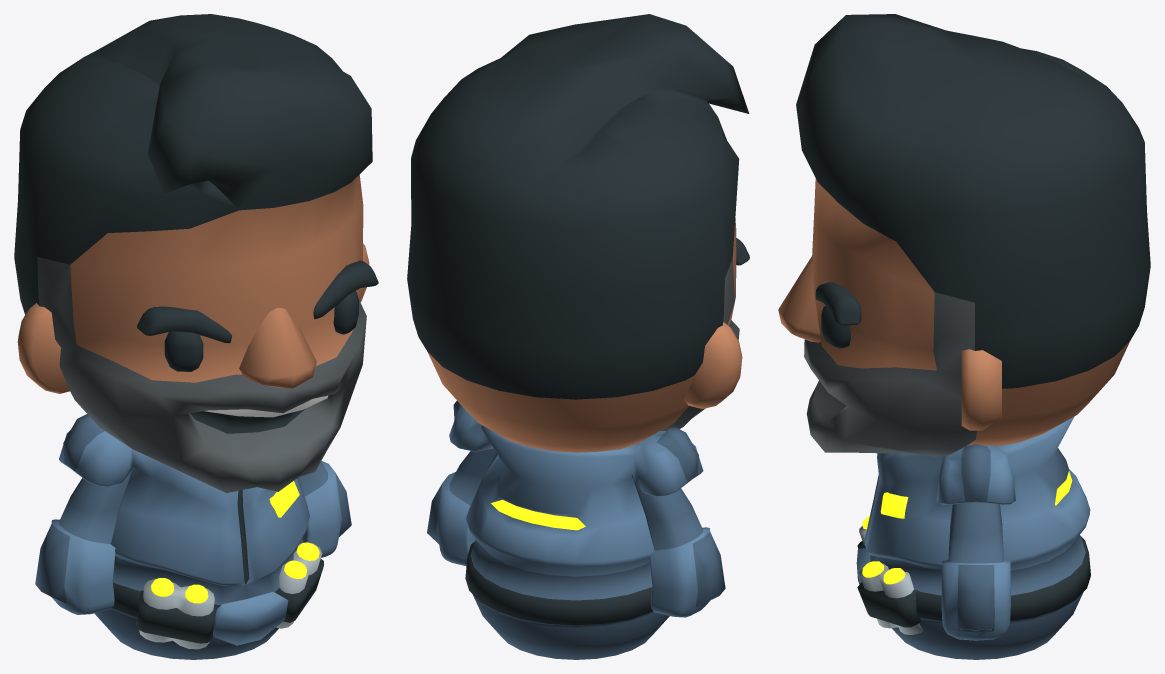
Rendered from character_spaceSoldier.gltf.
3 renders of one model, left to right at view 1: azimuth 30°, elevation 25°; view 2: azimuth 150°, elevation 25°; view 3: azimuth 270°, elevation 25°, orthographic. The views are drawn at different scales.
Parts seen in each view (by area): view 1: character_spaceSoldierHeadA, character_spaceSoldierBody, character_spaceSoldierArmRight, character_spaceSoldierArmLeft; view 2: character_spaceSoldierHeadA, character_spaceSoldierBody, character_spaceSoldierArmRight, character_spaceSoldierArmLeft; view 3: character_spaceSoldierHeadA, character_spaceSoldierBody, character_spaceSoldierArmLeft.
Part boxes in pixels (<box>): character_spaceSoldierHeadA: <box>14,14,378,492</box>; character_spaceSoldierBody: <box>59,414,323,659</box>; character_spaceSoldierArmRight: <box>35,467,133,614</box>; character_spaceSoldierArmLeft: <box>297,461,351,557</box>; character_spaceSoldierHeadA: <box>407,14,749,452</box>; character_spaceSoldierBody: <box>449,401,703,659</box>; character_spaceSoldierArmRight: <box>632,474,725,617</box>; character_spaceSoldierArmLeft: <box>427,448,497,566</box>; character_spaceSoldierHeadA: <box>778,14,1150,456</box>; character_spaceSoldierBody: <box>856,416,1090,659</box>; character_spaceSoldierArmLeft: <box>941,502,1010,640</box>.
Size of the model in its own units: 1.18 by 1.96 by 1.13.
